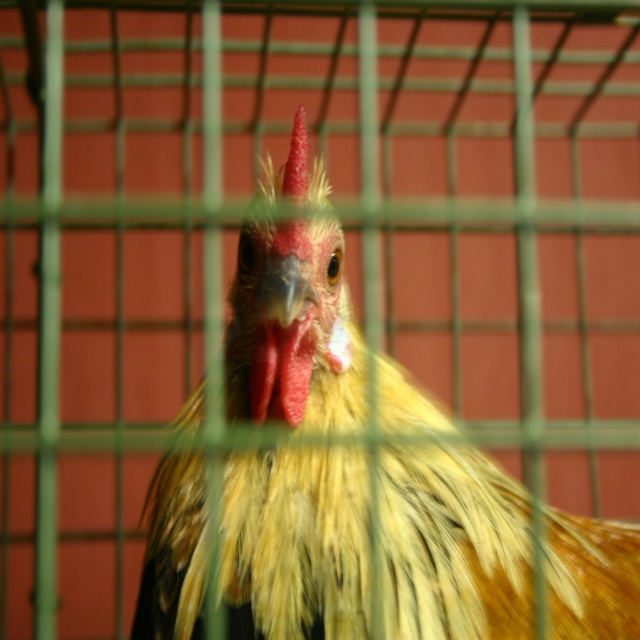Chicken: (129, 105, 640, 640)
